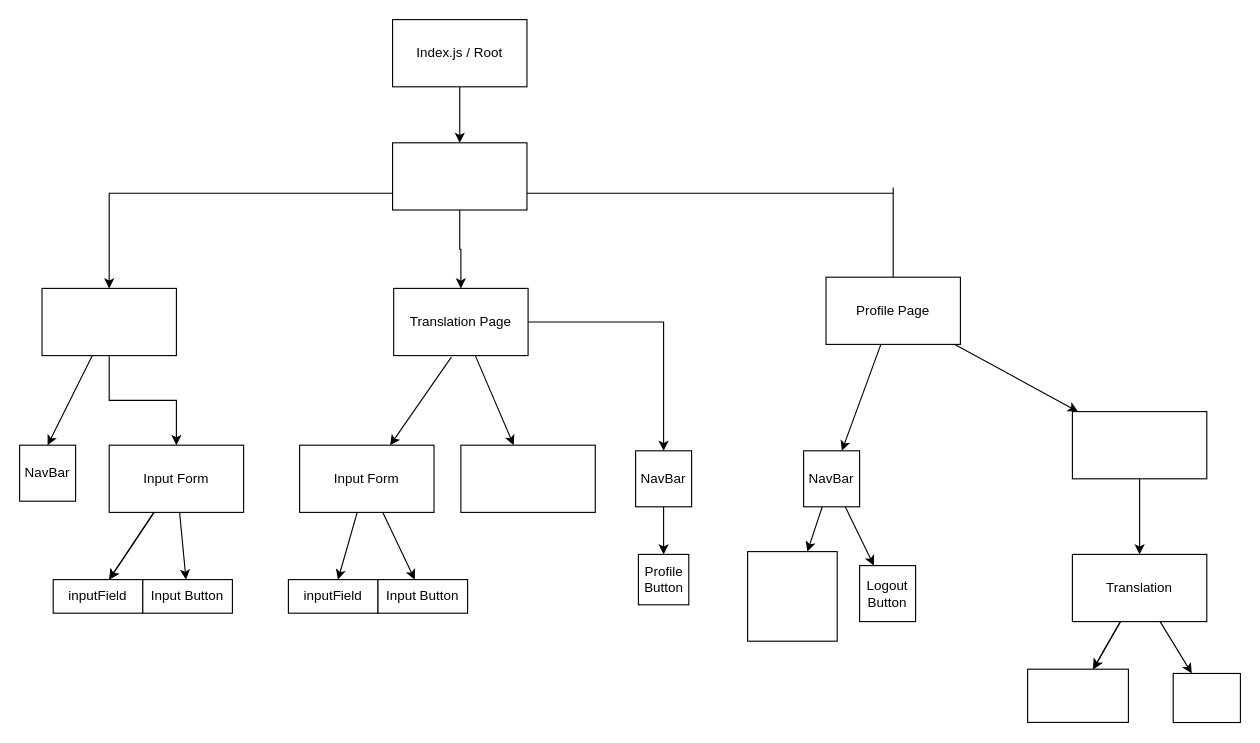
The diagram is 1260 pixels wide and 743 high, and some of its shapes have lost their labels. Each missing label, with the centre of its shape:
App: point (459, 176)
Delete Button: point (1077, 695)
Home Buttom (Main Page): point (791, 595)
Lastest Translations: point (1139, 444)
Login Page: point (108, 321)
Text: point (1206, 697)
Translated Inbox: point (527, 478)
